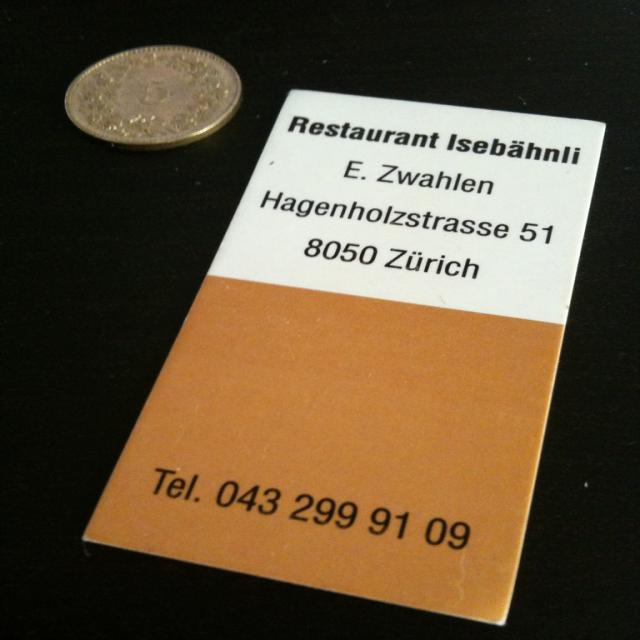Coin: (60, 40, 242, 153)
